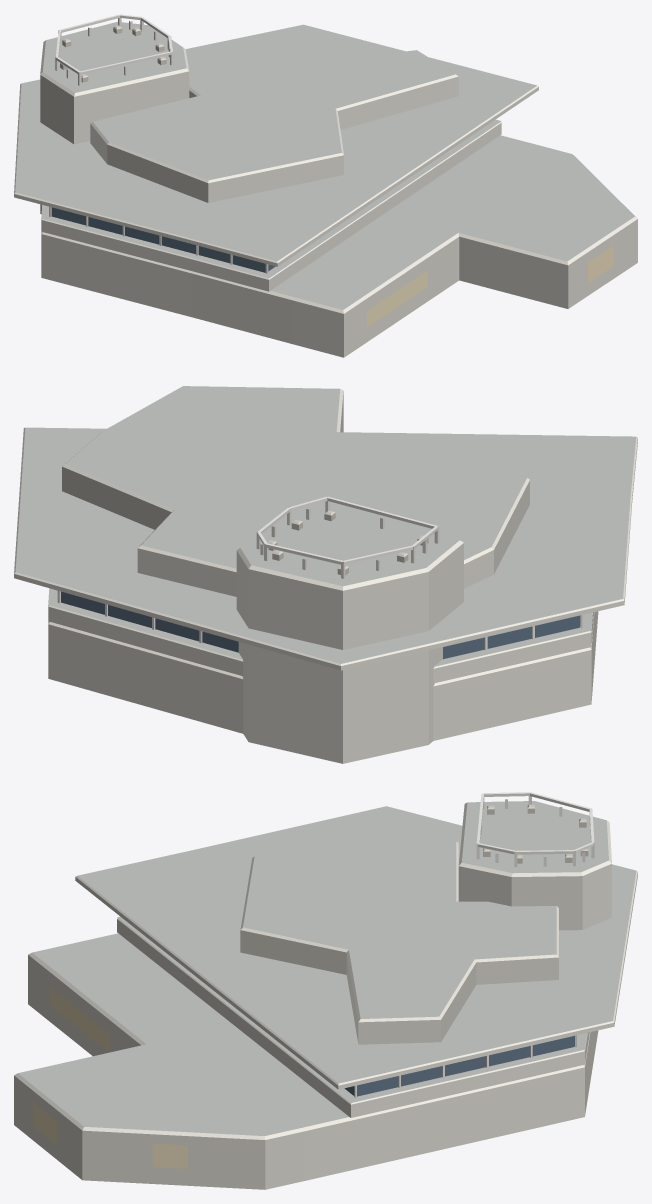
Rendered from kc-community-christian-church.glb.
3 renders of one model, top to bottom at view 1: azimuth 30°, elevation 25°; view 2: azimuth 150°, elevation 25°; view 3: azimuth 270°, elevation 25°, orthographic. The views are drawn at different scales.
Parts seen in each view (by area): view 1: Community Christian Church; view 2: Community Christian Church; view 3: Community Christian Church.
Part boxes in pixels (left/top/right/bottom): Community Christian Church: left=14, top=14, right=637, bottom=357; Community Christian Church: left=14, top=386, right=637, bottom=763; Community Christian Church: left=14, top=792, right=637, bottom=1189.
Size of the model in its own units: 56.29 by 16.4 by 52.9.
